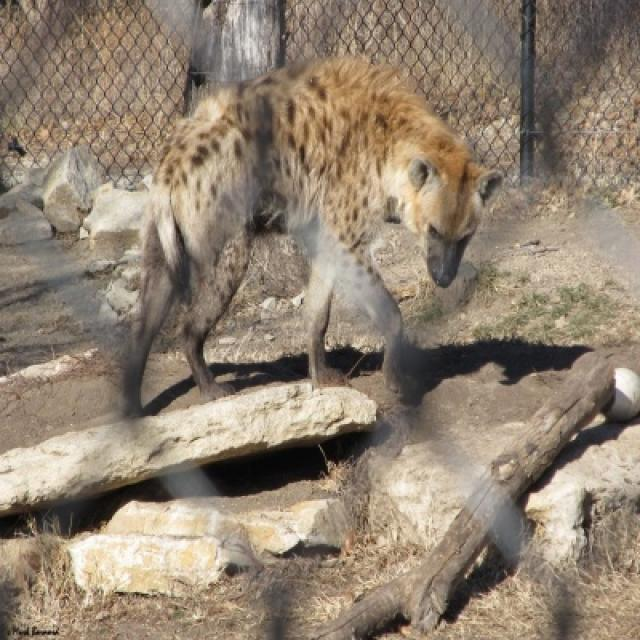hyena: (117, 54, 502, 419)
